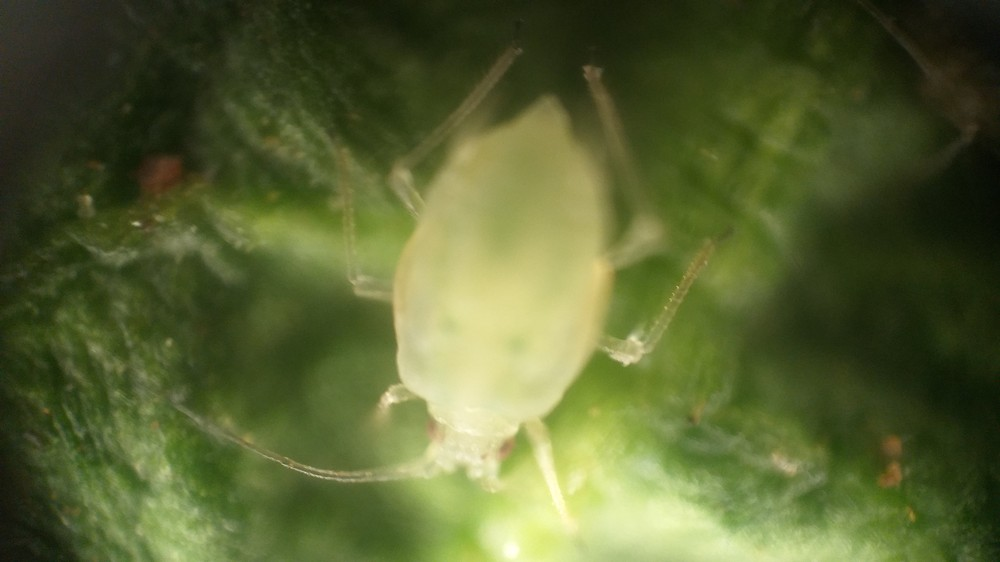Pulgon: (228, 41, 764, 552)
